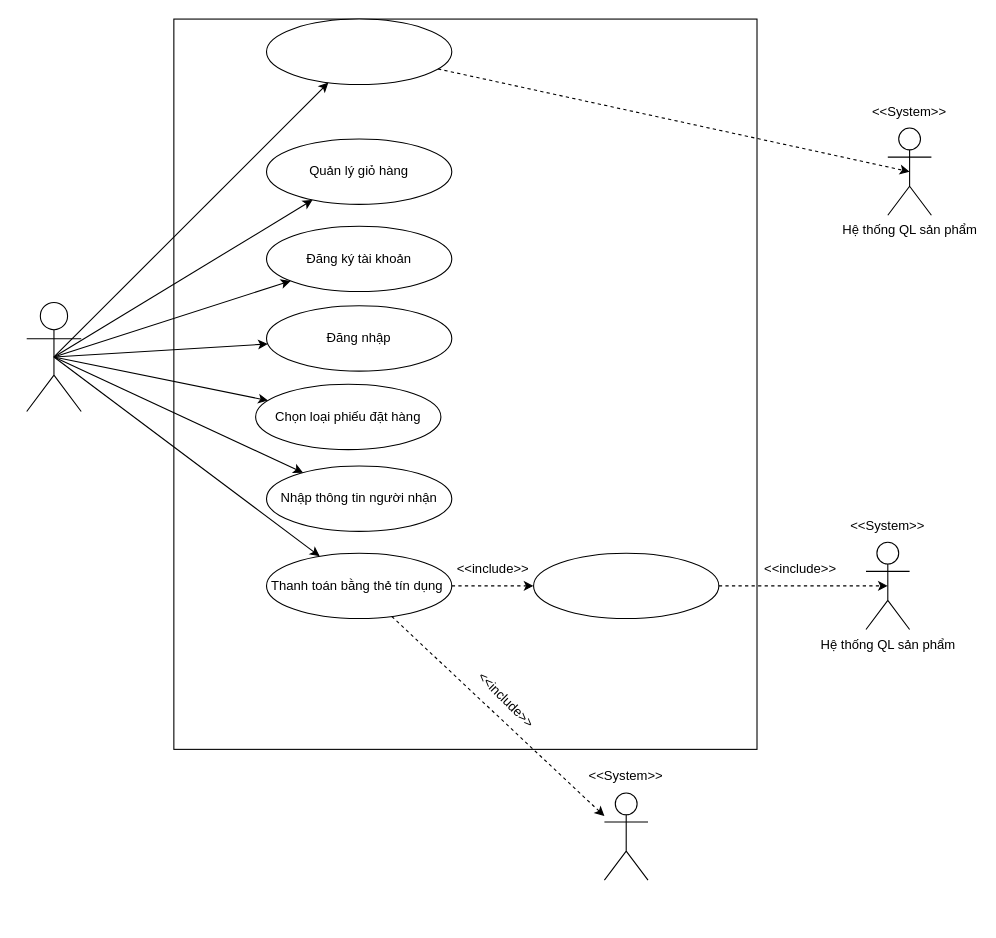
This 996x938 diagram has some shape labels left out. Each missing label, with the centre of its shape:
Hệ thống thanh toán: pixel 625 836
Khách hàng: pixel 53 356
Xem và tìm kiếm sản phẩm: pixel 358 51
Xác nhận và Gửi Email đơn hàng: pixel 625 585
